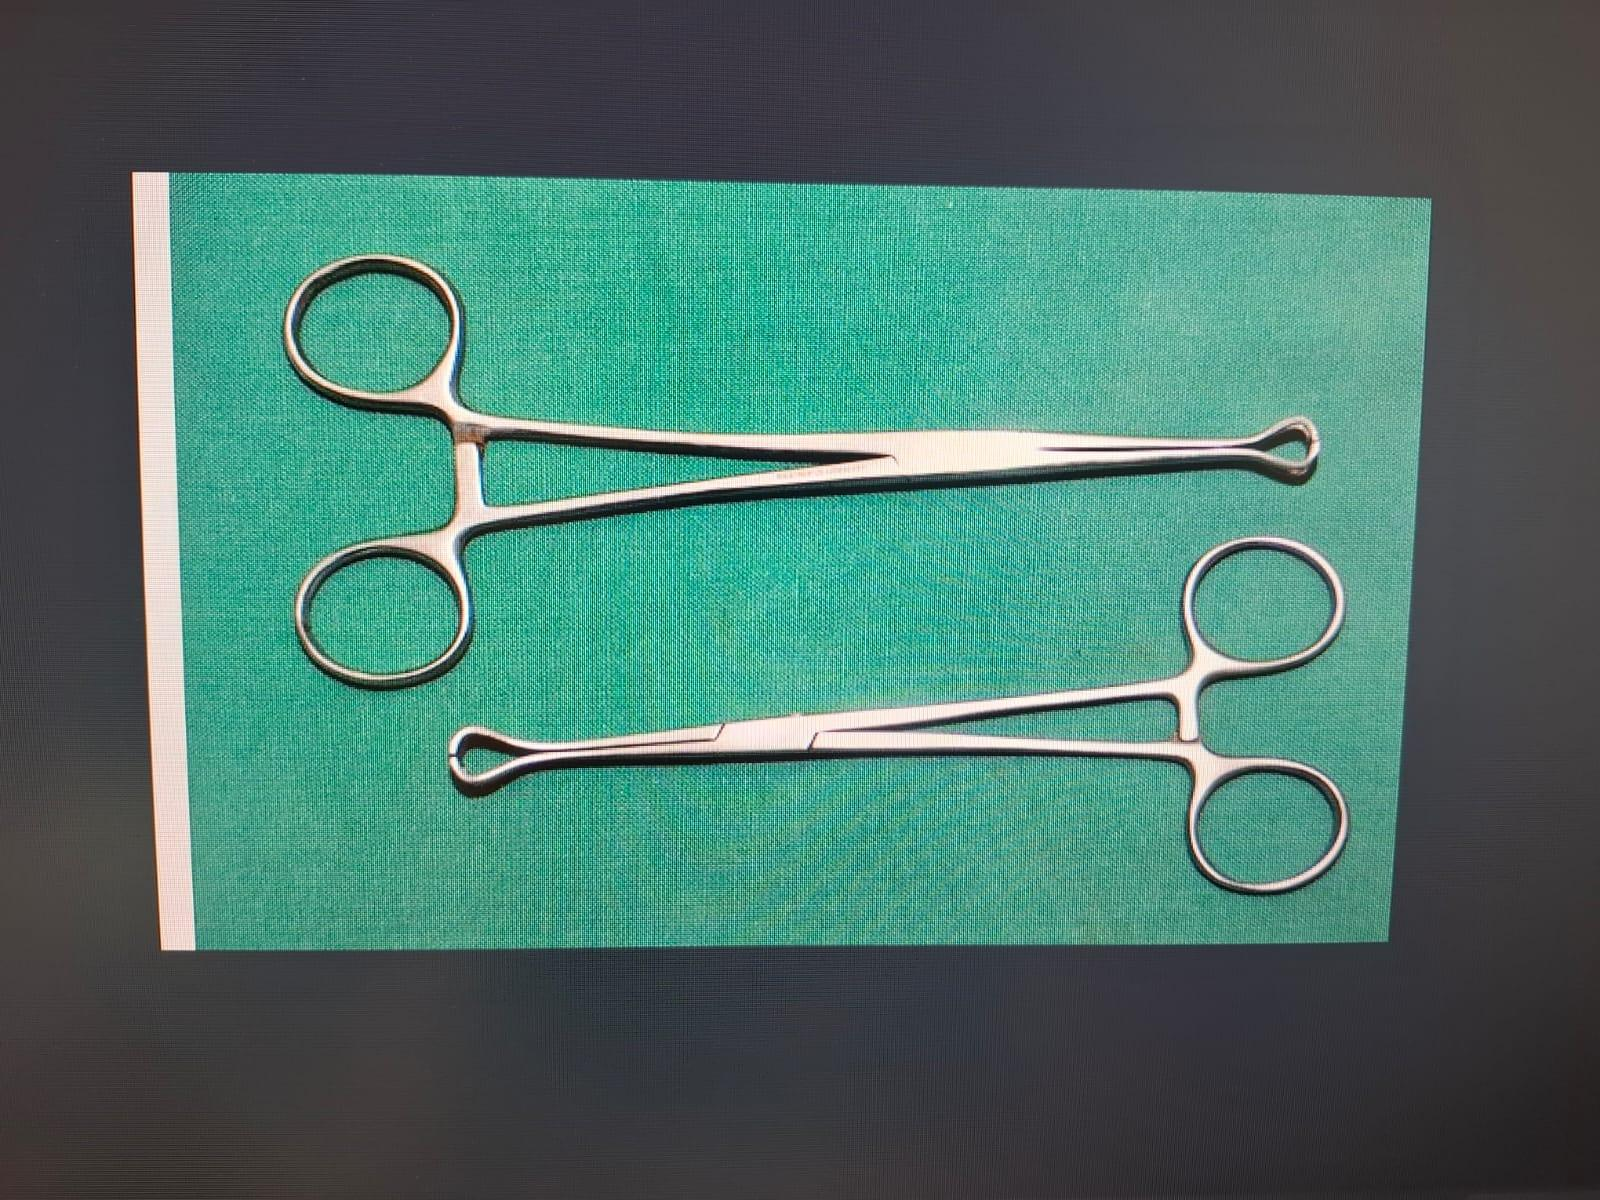Babcock Forceps: (280, 244, 1330, 694), (438, 522, 1372, 914)
